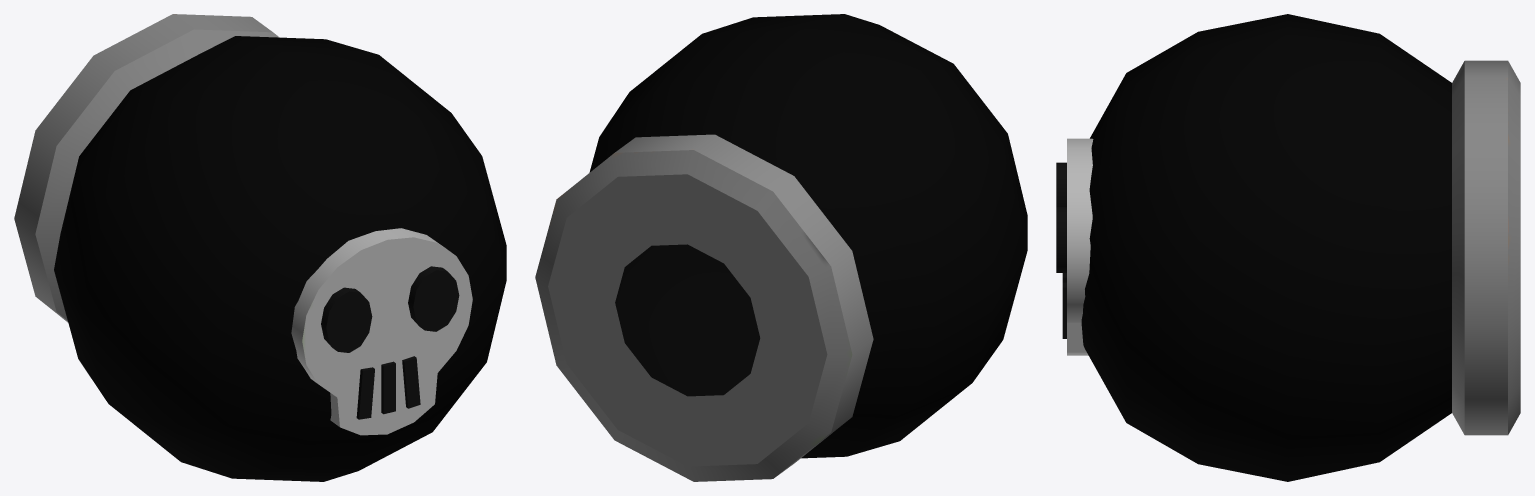
The model's file is Glove03_R.fbx.
3 views of the same model, side by side, from view 1: azimuth 30°, elevation 25°; view 2: azimuth 150°, elevation 25°; view 3: azimuth 270°, elevation 25° (orthographic). The views are drawn at different scales.
Visible parts, largest first — view 1: Glove03_R; view 2: Glove03_R; view 3: Glove03_R.
Part boxes in pixels (<box>): Glove03_R: <box>14,14,506,481</box>; Glove03_R: <box>535,14,1027,481</box>; Glove03_R: <box>1056,14,1520,481</box>.
Bounding box in the file's own units: 58.67 × 58.67 × 58.
Materials: 1 (1 with a texture image).
